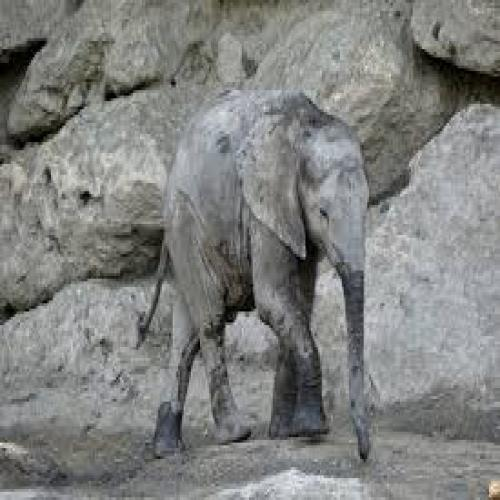asian_elephant-endangered: (140, 91, 371, 460)
